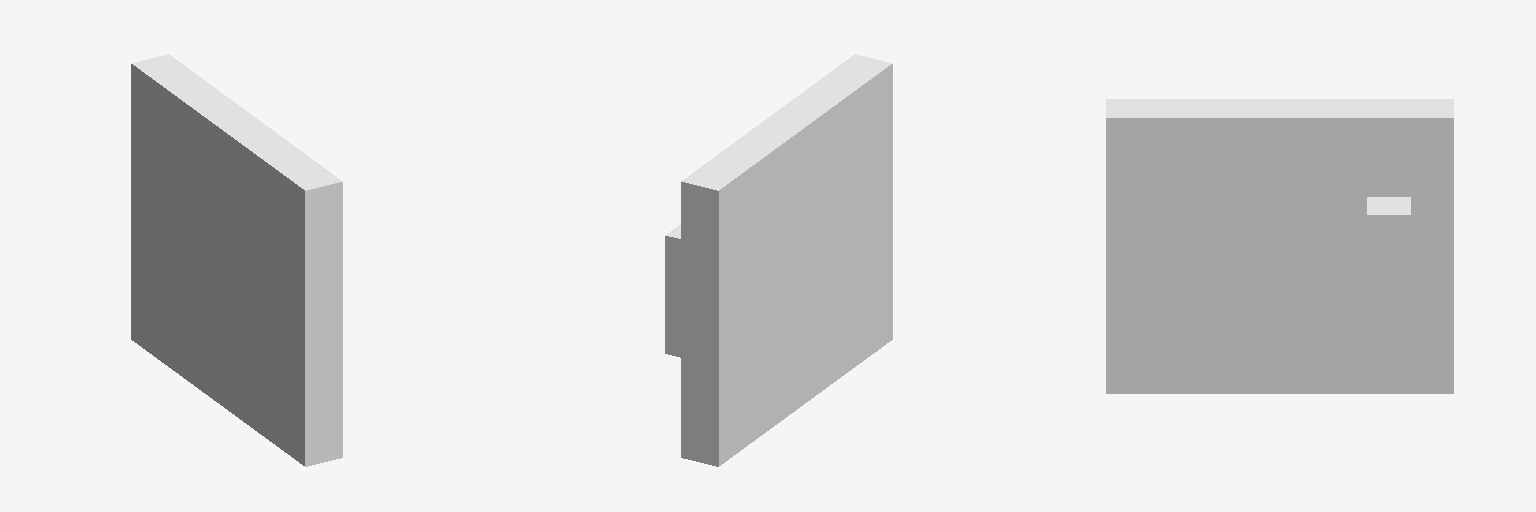
The model's file is SinkDoor.obj.
3 renders of one model, left to right at view 1: azimuth 30°, elevation 25°; view 2: azimuth 150°, elevation 25°; view 3: azimuth 270°, elevation 25°, orthographic.
Visible parts, largest first — view 1: object 1; view 2: object 1; view 3: object 1.
Part boxes in pixels (left/top/right/bottom): object 1: left=131, top=54, right=342, bottom=466; object 1: left=665, top=54, right=892, bottom=466; object 1: left=1106, top=99, right=1453, bottom=393.
Size of the model in its own units: 0.2 by 0.7 by 0.8.